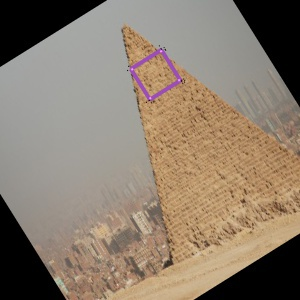square: (127, 45, 185, 103)
